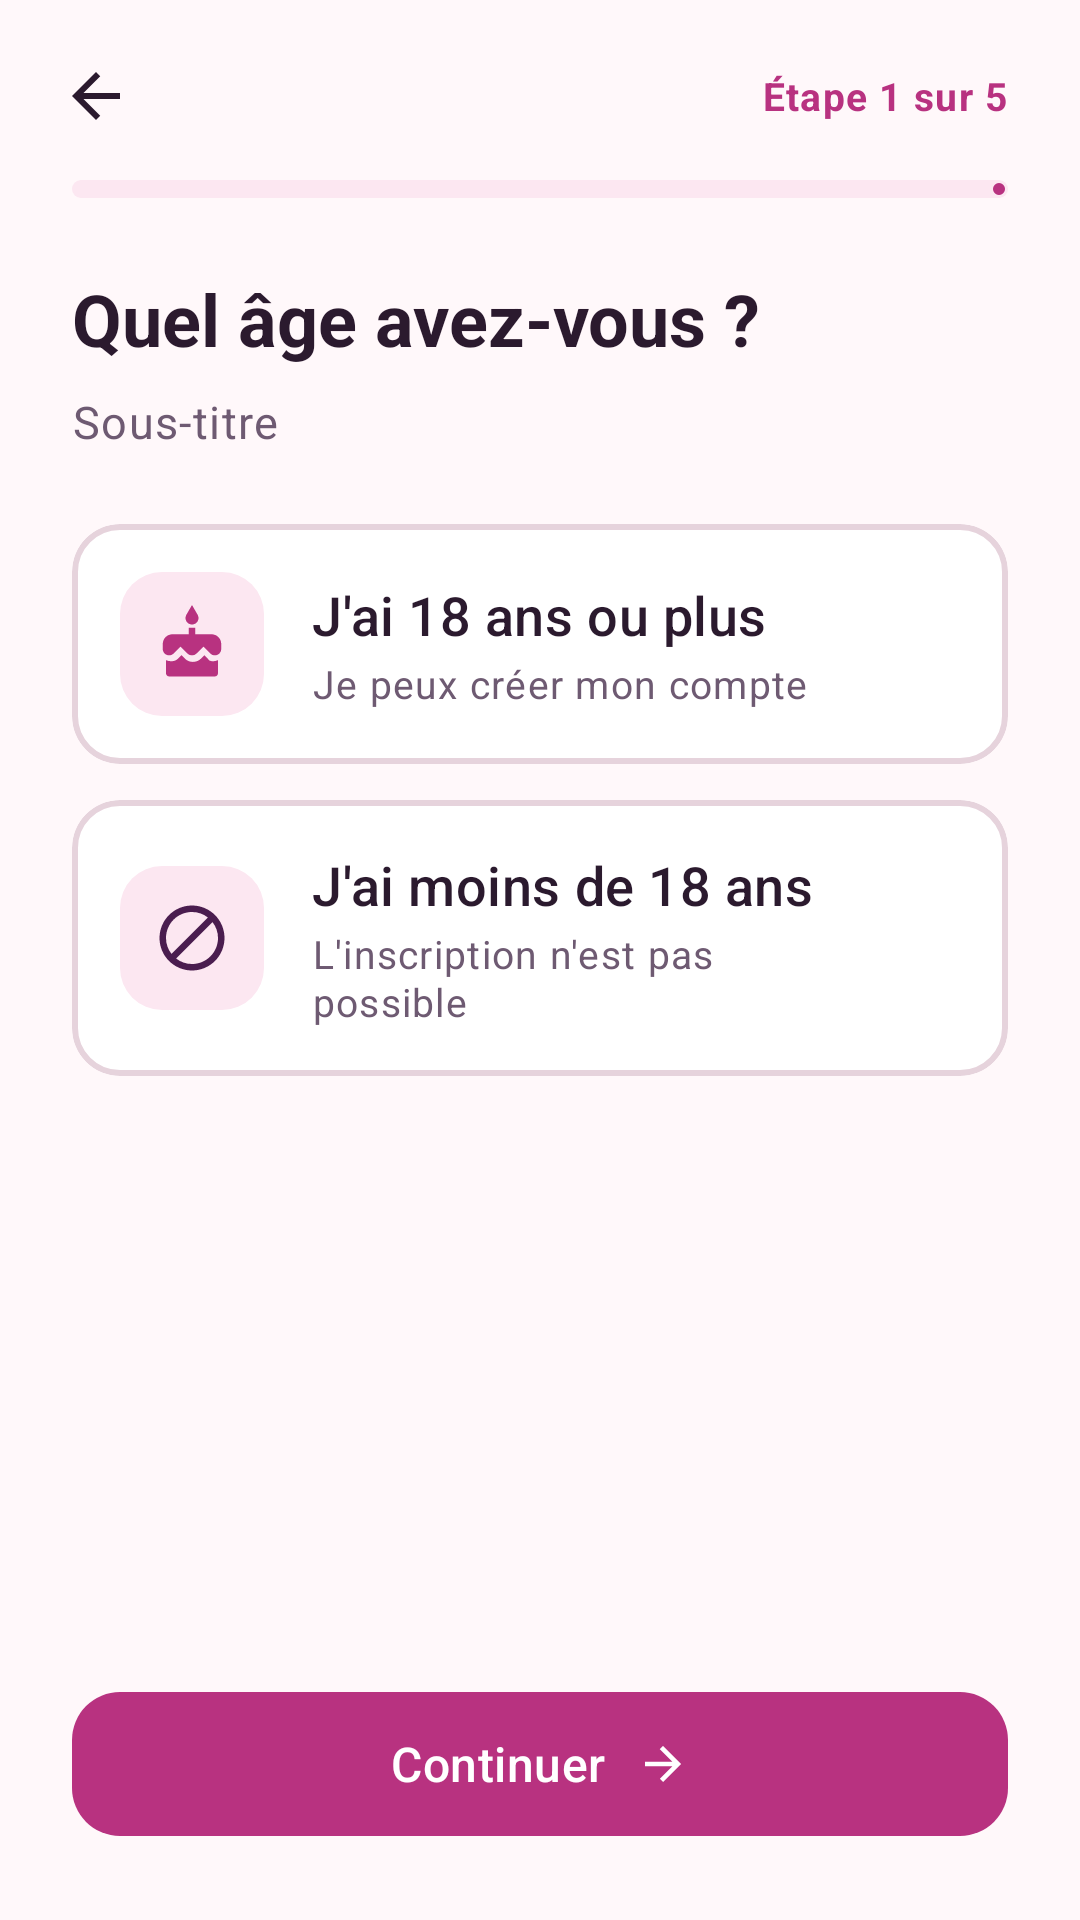

Where to tap for icons on this 1080w x 1920h app screen, as (x=x, y=y):
block: (x=192, y=938)
cake: (x=192, y=641)
Retour: (x=96, y=96)
